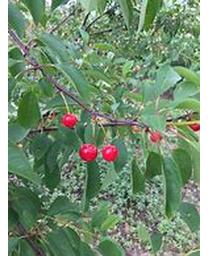cherry: (80, 143, 97, 162), (103, 147, 118, 162), (63, 114, 78, 128), (150, 129, 162, 143), (191, 120, 199, 133)
